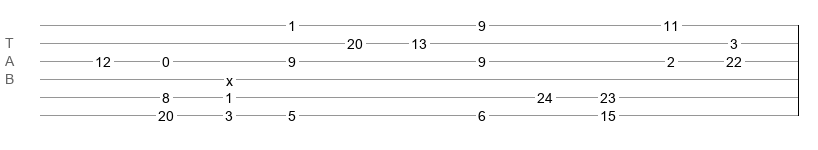0: (162, 54, 170, 64)
1: (225, 90, 233, 100), (288, 18, 296, 28)
11: (663, 18, 679, 28)
12: (95, 54, 111, 64)
13: (411, 36, 427, 46)
15: (600, 108, 616, 118)
2: (667, 54, 675, 64)
20: (158, 108, 174, 118), (347, 36, 363, 46)
22: (726, 54, 742, 64)
23: (600, 90, 616, 100)
24: (537, 90, 553, 100)
3: (225, 108, 233, 118), (730, 36, 738, 46)
5: (288, 108, 296, 118)
6: (478, 108, 486, 118)
8: (162, 90, 170, 100)
9: (288, 54, 296, 64), (478, 54, 486, 64), (478, 18, 486, 28)
x: (226, 73, 233, 81)
